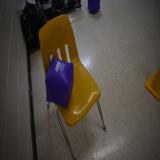cone: (144, 65, 160, 101)
cube: (45, 56, 74, 109), (87, 0, 101, 14)
